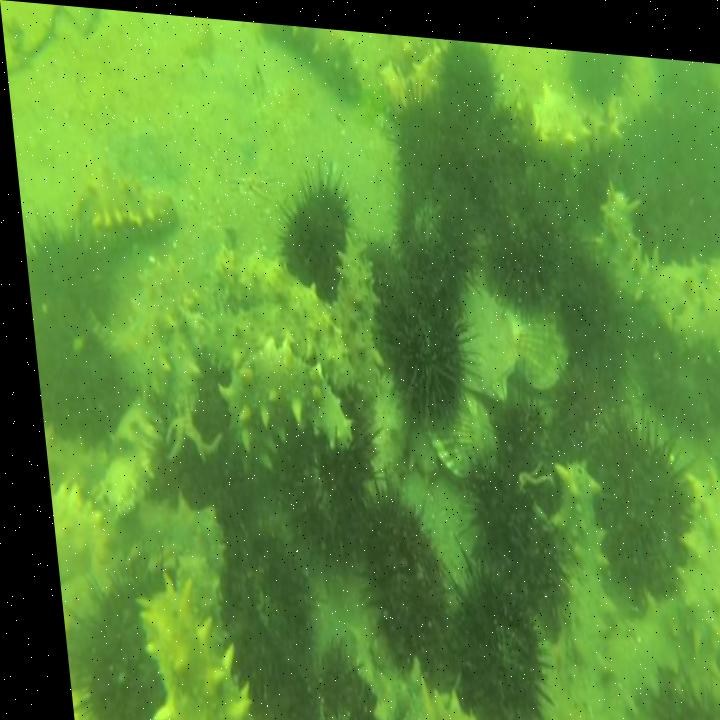echinus: (201, 504, 313, 711), (420, 540, 541, 720), (574, 401, 689, 587), (342, 478, 442, 676), (266, 407, 380, 565), (451, 449, 561, 612), (52, 562, 161, 720), (24, 299, 119, 443), (374, 284, 467, 423), (20, 210, 114, 338), (384, 165, 471, 302), (268, 156, 353, 290), (257, 629, 374, 720), (625, 325, 720, 430), (474, 192, 556, 311), (386, 80, 465, 195), (543, 227, 614, 352), (430, 30, 500, 128), (625, 667, 720, 720), (567, 40, 634, 96)
holothurian: (514, 442, 620, 720), (586, 168, 720, 354), (200, 239, 354, 393), (206, 324, 349, 477), (121, 570, 251, 720), (572, 565, 687, 720), (172, 288, 332, 386), (106, 242, 199, 404), (652, 447, 720, 667), (113, 487, 221, 600), (322, 219, 385, 402), (523, 61, 632, 164), (64, 164, 180, 249), (259, 18, 367, 105), (40, 476, 103, 580)
scallop: (446, 263, 515, 398), (414, 388, 494, 478), (504, 300, 564, 386)
